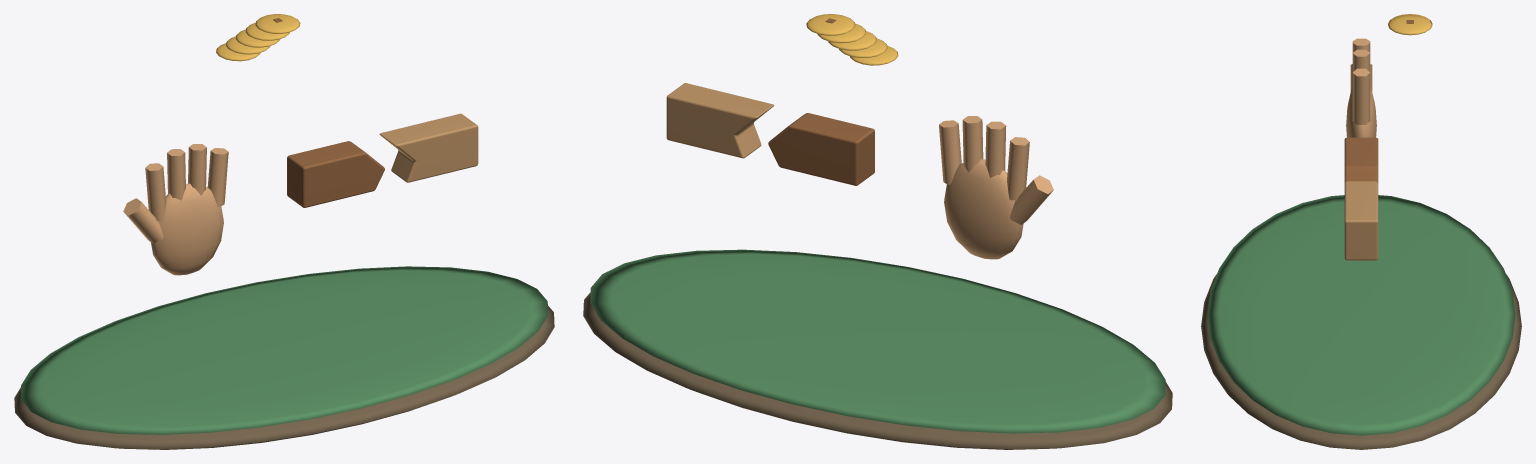
Rendered from complete-third-price-hit-break.glb.
3 views of the same model, side by side, from view 1: azimuth 30°, elevation 25°; view 2: azimuth 150°, elevation 25°; view 3: azimuth 270°, elevation 25° (orthographic). The views are drawn at different scales.
Parts seen in each view (by area): view 1: complete-third-price-hit-break_surface_01, complete-third-price-hit-break_surface_02, complete-third-price-hit-break_surface_00, complete-third-price-hit-break_surface_03, complete-third-price-hit-break_surface_04, complete-third-price-hit-break_surface_05; view 2: complete-third-price-hit-break_surface_01, complete-third-price-hit-break_surface_02, complete-third-price-hit-break_surface_00, complete-third-price-hit-break_surface_03, complete-third-price-hit-break_surface_04, complete-third-price-hit-break_surface_05; view 3: complete-third-price-hit-break_surface_01, complete-third-price-hit-break_surface_00, complete-third-price-hit-break_surface_04, complete-third-price-hit-break_surface_02, complete-third-price-hit-break_surface_03, complete-third-price-hit-break_surface_05.
Boxes of the visible parts, left/top/right/bottom form: complete-third-price-hit-break_surface_01: left=21, top=266, right=547, bottom=434; complete-third-price-hit-break_surface_02: left=123, top=144, right=228, bottom=275; complete-third-price-hit-break_surface_00: left=14, top=306, right=554, bottom=449; complete-third-price-hit-break_surface_03: left=273, top=18, right=384, bottom=207; complete-third-price-hit-break_surface_04: left=379, top=113, right=478, bottom=182; complete-third-price-hit-break_surface_05: left=216, top=14, right=300, bottom=61; complete-third-price-hit-break_surface_01: left=590, top=249, right=1165, bottom=433; complete-third-price-hit-break_surface_02: left=939, top=116, right=1053, bottom=259; complete-third-price-hit-break_surface_00: left=583, top=292, right=1172, bottom=449; complete-third-price-hit-break_surface_03: left=768, top=18, right=874, bottom=185; complete-third-price-hit-break_surface_04: left=666, top=83, right=773, bottom=158; complete-third-price-hit-break_surface_05: left=806, top=14, right=898, bottom=65; complete-third-price-hit-break_surface_01: left=1207, top=195, right=1515, bottom=435; complete-third-price-hit-break_surface_00: left=1201, top=274, right=1521, bottom=449; complete-third-price-hit-break_surface_04: left=1344, top=181, right=1378, bottom=260; complete-third-price-hit-break_surface_02: left=1346, top=38, right=1376, bottom=137; complete-third-price-hit-break_surface_03: left=1344, top=20, right=1413, bottom=183; complete-third-price-hit-break_surface_05: left=1388, top=14, right=1432, bottom=35.
Size of the model in its own units: 4.56 by 2.83 by 2.5.
